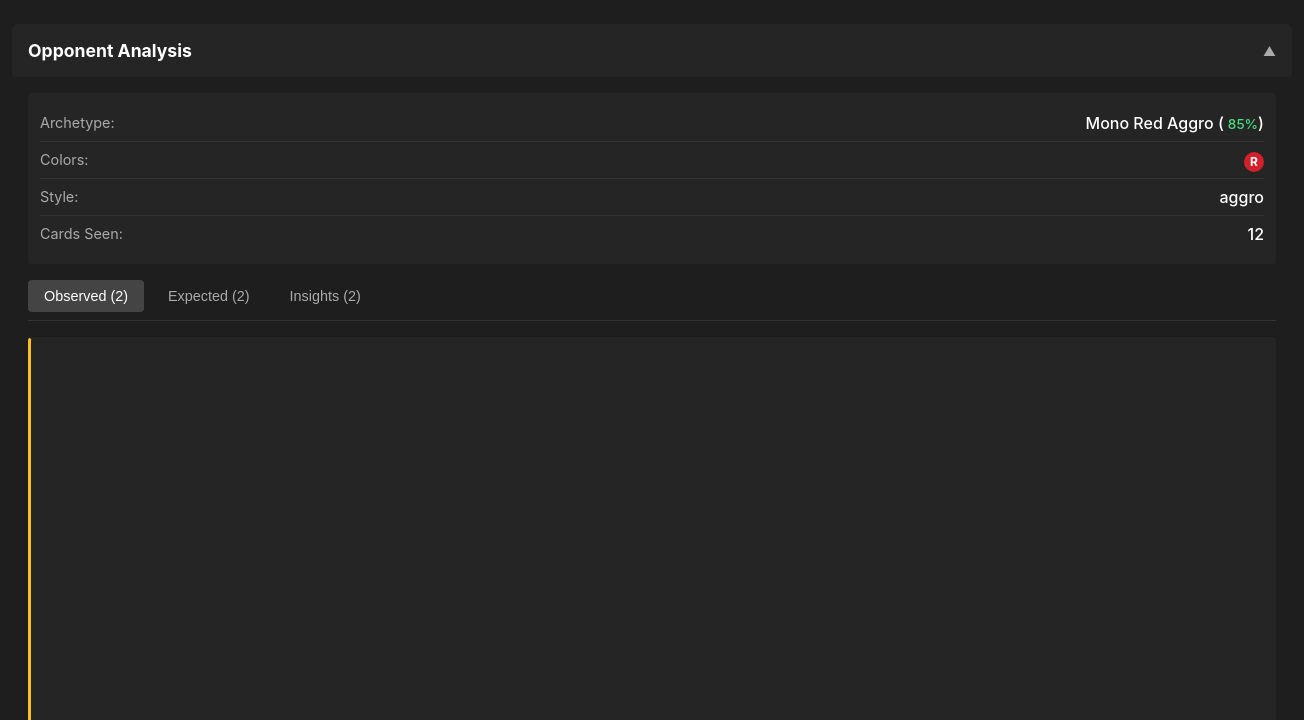
Scenario: OpponentAnalysisPanel › displays cards to watch section for unseen expected cards
Step 1. Click the tab "Expected (2)" → (209,296), box [152,280,266,312]
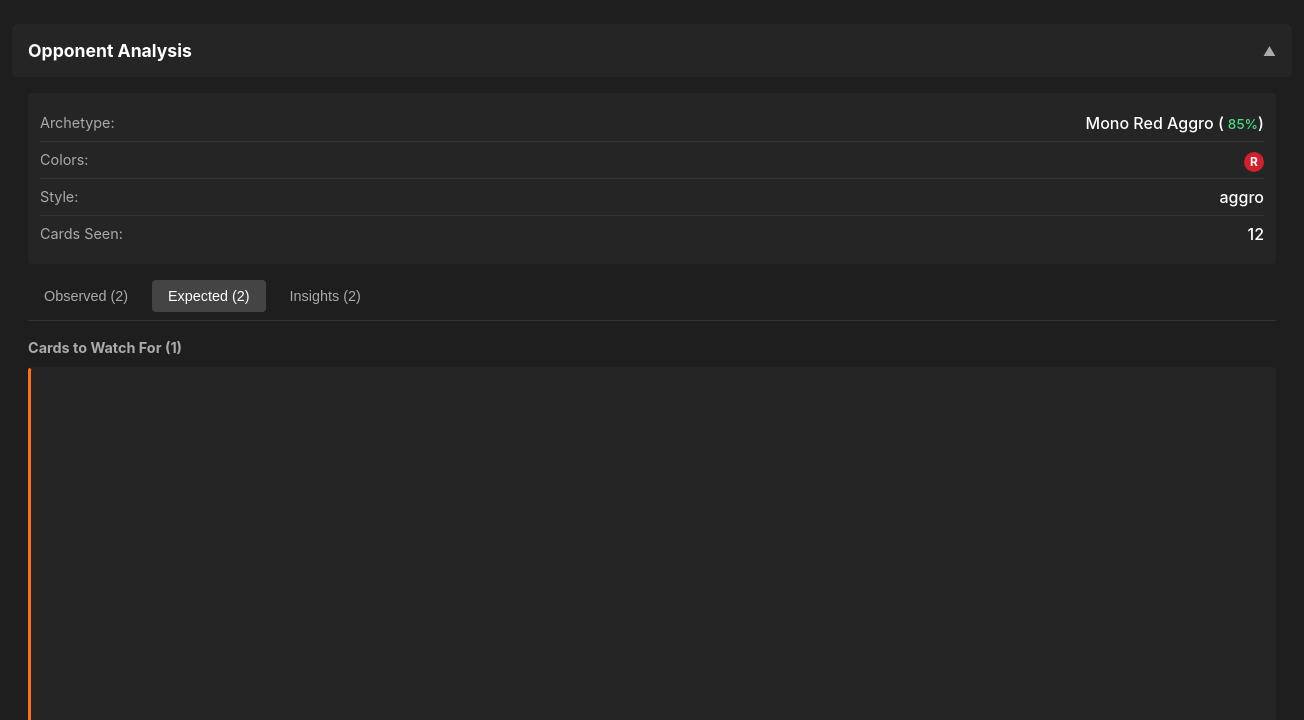
Expected: the heading "Cards to Watch For (1)" is shown, [28,339,182,356]
